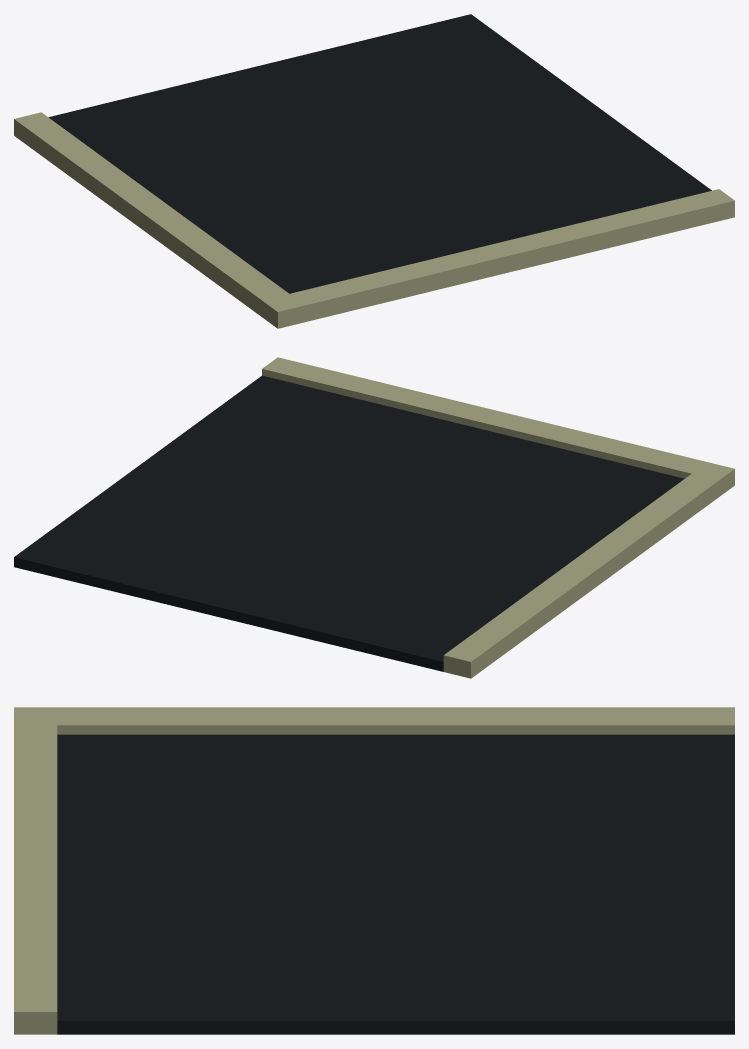
File: road_corner.fbx
3 views of the same model, one above another, from view 1: azimuth 30°, elevation 25°; view 2: azimuth 150°, elevation 25°; view 3: azimuth 270°, elevation 25° (orthographic). The views are drawn at different scales.
Parts seen in each view (by area): view 1: corner; view 2: corner; view 3: corner.
Part boxes in pixels (x1=…): corner: x1=14, y1=14, x2=734, y2=328; corner: x1=14, y1=357, x2=734, y2=678; corner: x1=14, y1=707, x2=734, y2=1034.
Size of the model in its own units: 500 by 17.5 by 500.
